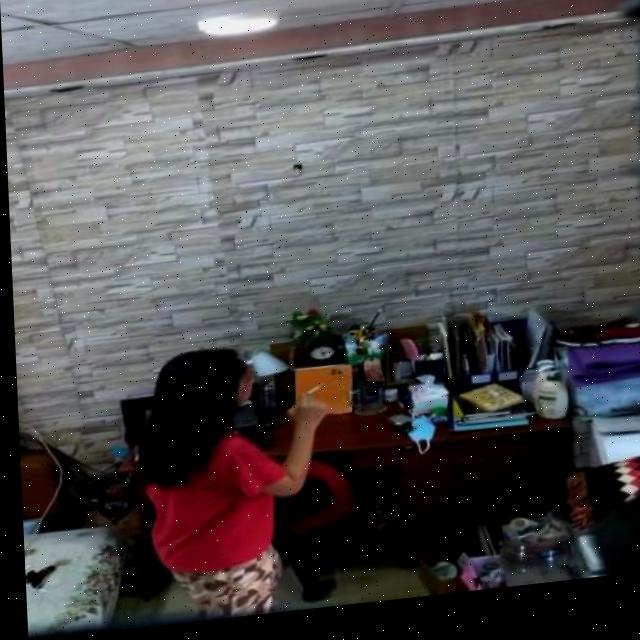cigarette: (303, 390, 321, 402)
